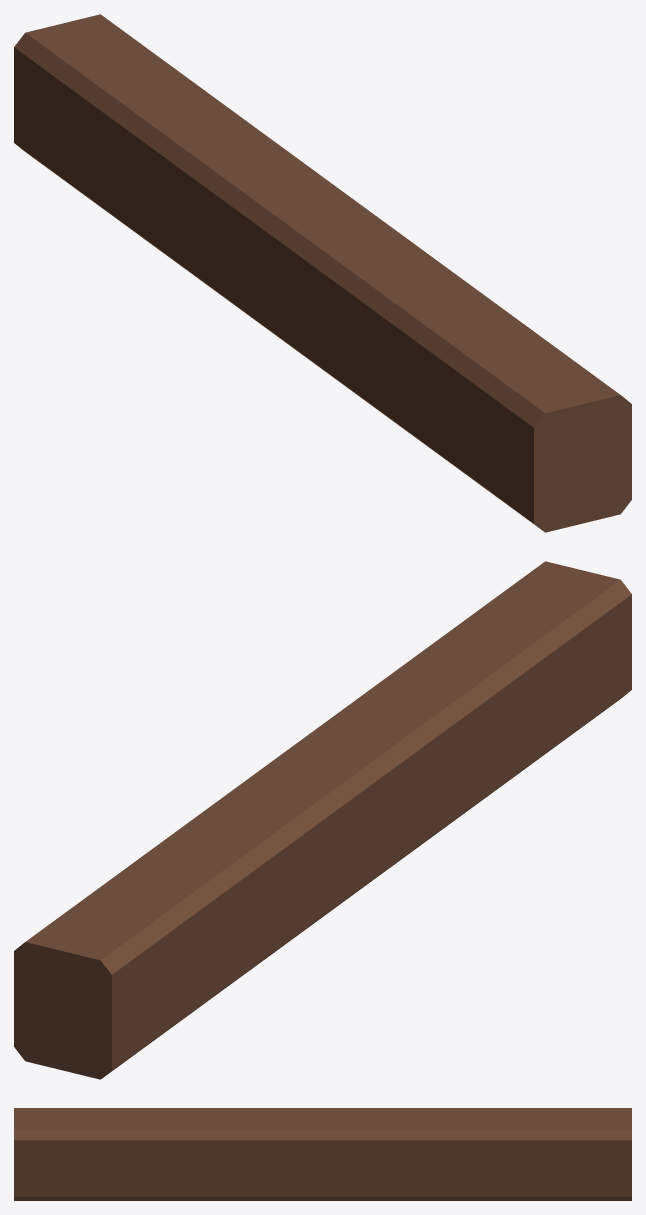
Rendered from Pilar horizontal.fbx.
3 renders of one model, top to bottom at view 1: azimuth 30°, elevation 25°; view 2: azimuth 150°, elevation 25°; view 3: azimuth 270°, elevation 25°, orthographic. The views are drawn at different scales.
Visible parts, largest first — view 1: polySurface313; view 2: polySurface313; view 3: polySurface313.
Boxes of the visible parts, box(x1,y1,x2,y2) form: polySurface313: box(14, 14, 631, 532); polySurface313: box(14, 561, 631, 1079); polySurface313: box(14, 1108, 631, 1200).
Size of the model in its own units: 25.76 by 30.01 by 237.
